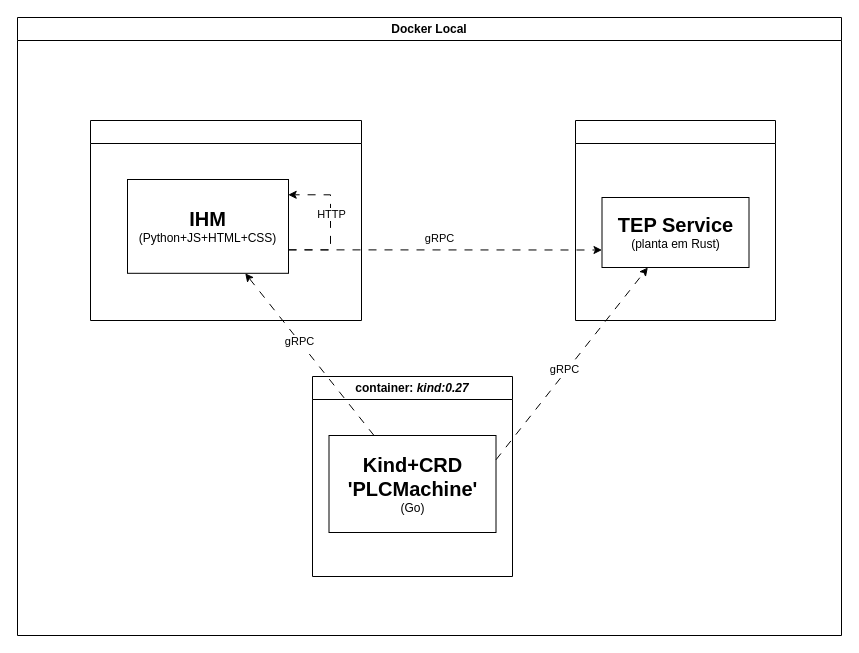
Some shapes in this 859 by 653 pixel diagram are drawn without their labels. Each missing label, with the box of its shape:
container: python:3.12-slim: (90, 120, 362, 320)
container: rust:latest: (574, 120, 776, 320)
